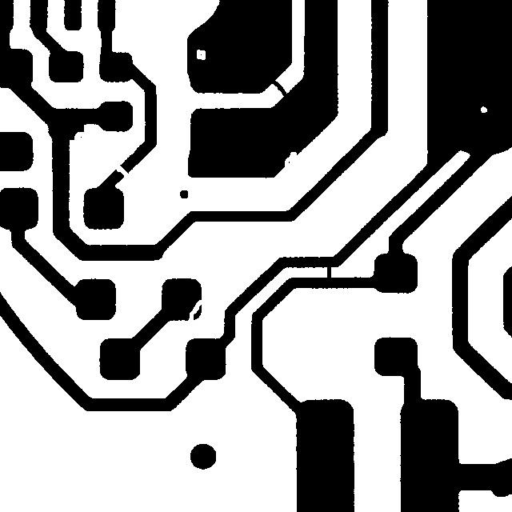copper: (172, 182, 195, 206)
mousebite: (277, 144, 304, 178), (66, 124, 93, 149)
open: (181, 292, 210, 329), (108, 158, 136, 186)
pin-hole: (189, 42, 213, 67)
short: (263, 72, 297, 108), (319, 253, 338, 287)
